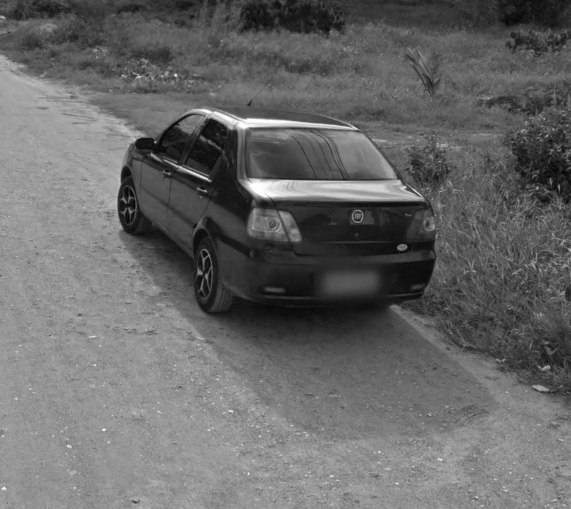car: (114, 76, 441, 320)
